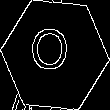O_S: (33, 28, 77, 82)
